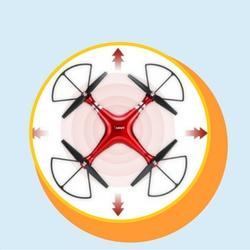drone: (50, 62, 189, 198)
